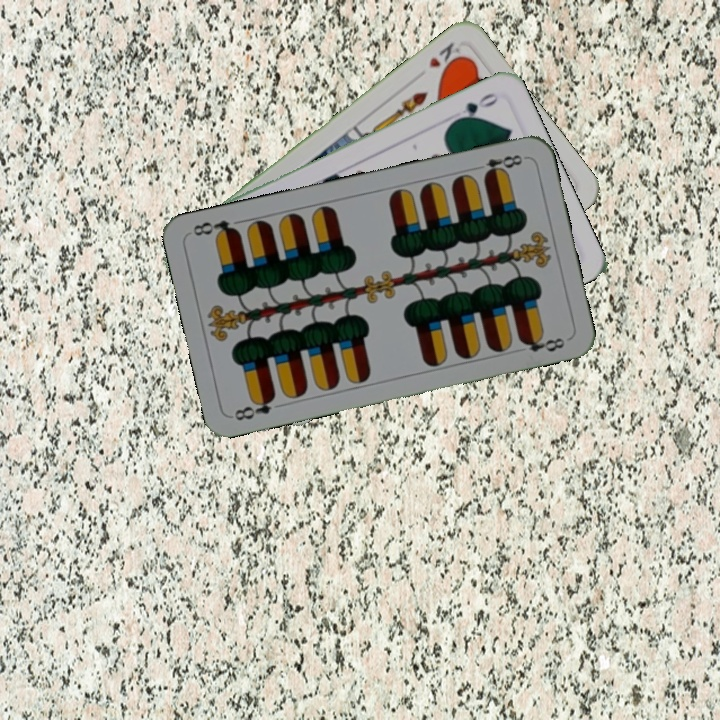E8: (470, 150, 528, 180), (230, 391, 278, 424)
GO: (448, 88, 501, 126)
HK: (424, 38, 466, 76)
